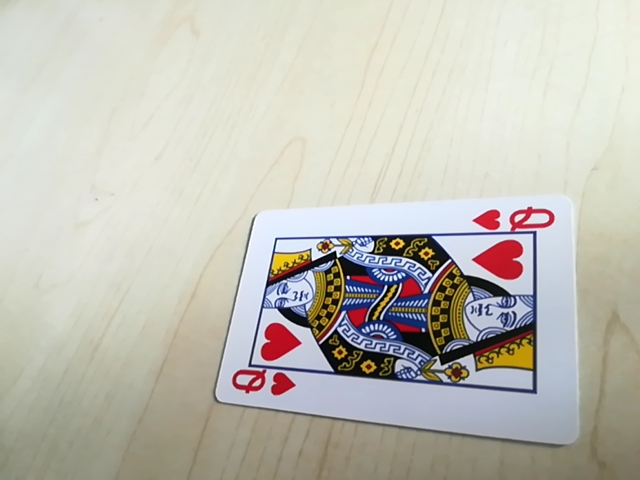hx q: (471, 201, 556, 236), (225, 366, 298, 402)
